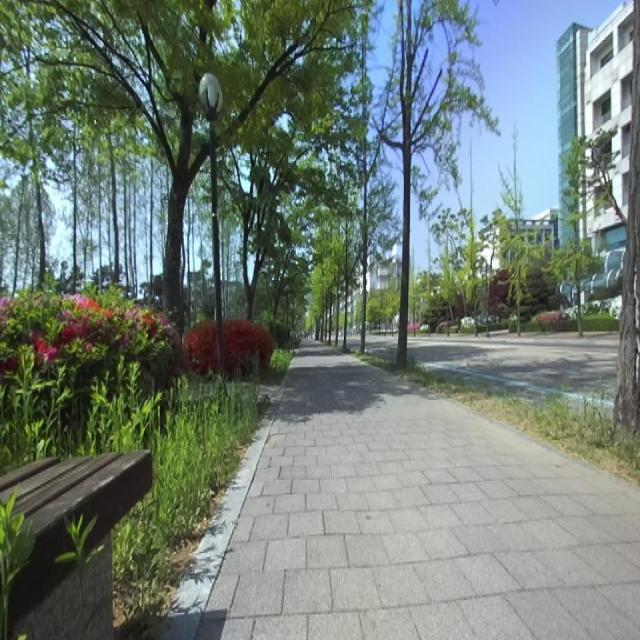sidewalk: (196, 340, 640, 639)
